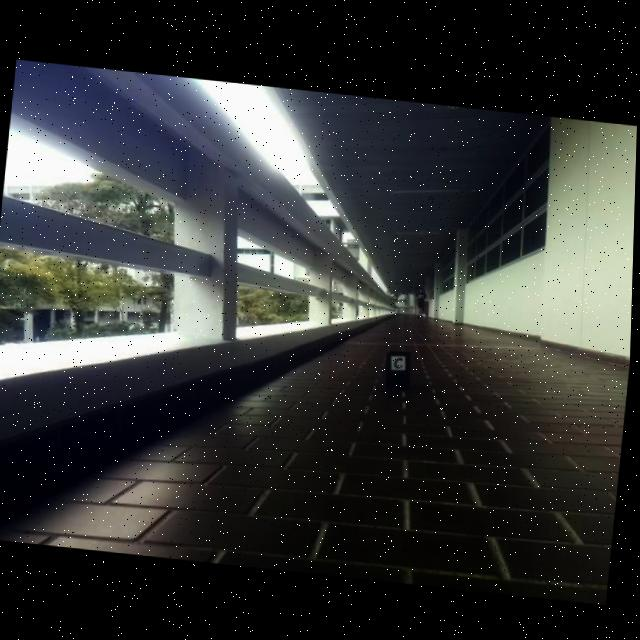C: (395, 353, 405, 365)
